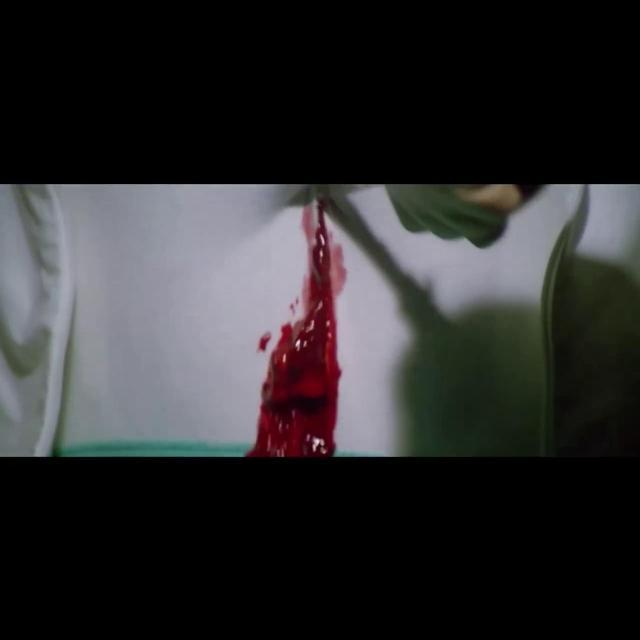blood: (247, 198, 346, 458)
